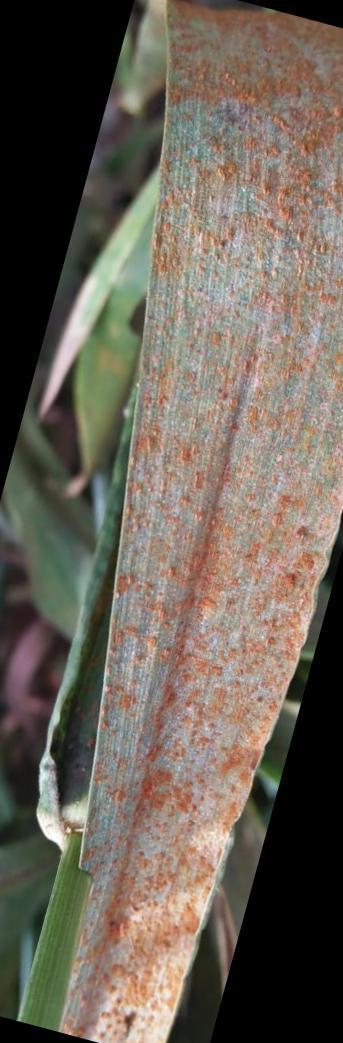Wheat: (170, 14, 341, 410), (146, 422, 340, 694), (108, 704, 258, 909), (45, 907, 194, 1037)
